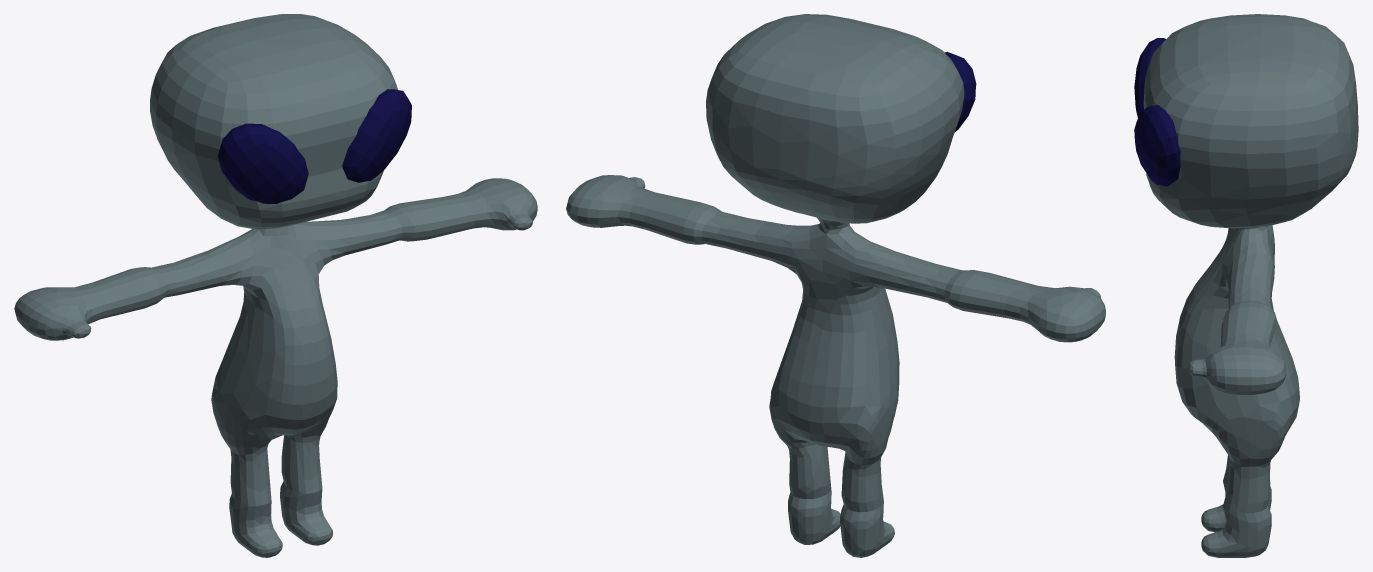
The model's file is Alien.glb.
3 renders of one model, left to right at view 1: azimuth 30°, elevation 25°; view 2: azimuth 150°, elevation 25°; view 3: azimuth 270°, elevation 25°, orthographic. The views are drawn at different scales.
Visible parts, largest first — view 1: Alien; view 2: Alien; view 3: Alien.
Boxes of the visible parts, x1=… form: Alien: x1=14, y1=14, x2=537, y2=557; Alien: x1=566, y1=14, x2=1105, y2=557; Alien: x1=1134, y1=14, x2=1358, y2=557.
Size of the model in its own units: 1.87 by 1.75 by 0.7076.
